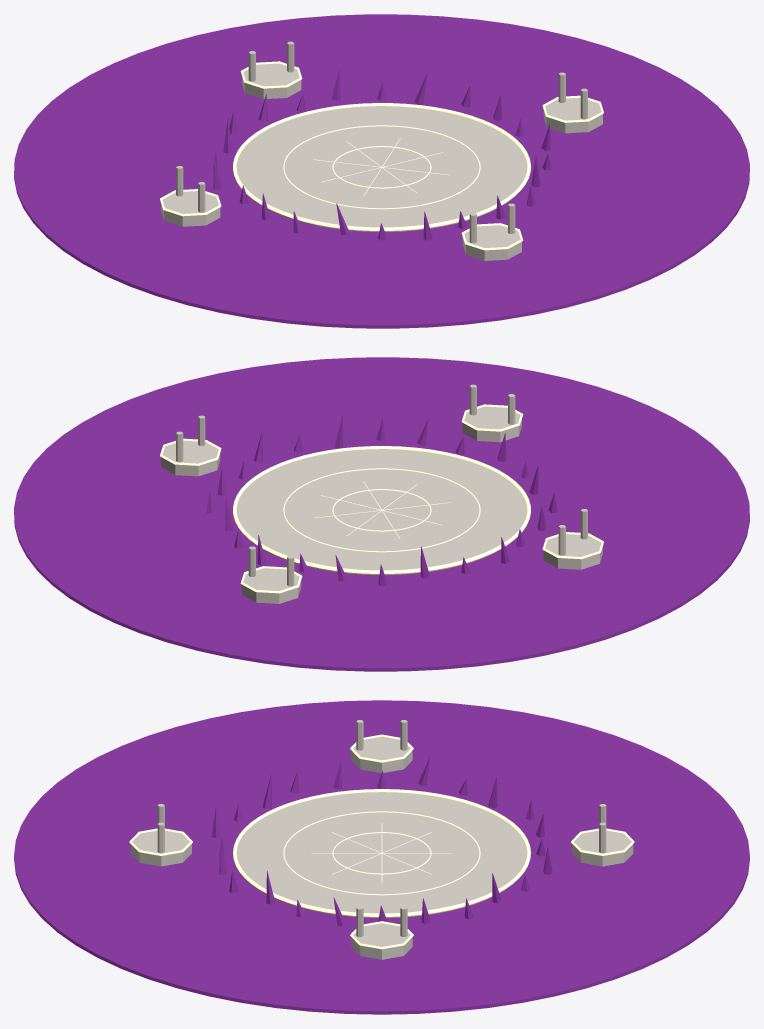
Rendered from SM_LW_Arena_LOD0.fbx.
3 views of the same model, one above another, from view 1: azimuth 30°, elevation 25°; view 2: azimuth 150°, elevation 25°; view 3: azimuth 270°, elevation 25° (orthographic).
Visible parts, largest first — view 1: SM_LW_CorruptionFloor, SM_LW_ArenaStone_Base, SM_LW_SacredCircle_Gold, SM_LW_TemplePedestal_East, SM_LW_TemplePedestal_West, SM_LW_TemplePedestal_South, SM_LW_TemplePedestal_North, SM_LW_InnerRing_8m; view 2: SM_LW_CorruptionFloor, SM_LW_ArenaStone_Base, SM_LW_SacredCircle_Gold, SM_LW_TemplePedestal_West, SM_LW_TemplePedestal_East, SM_LW_TemplePedestal_South, SM_LW_TemplePedestal_North, SM_LW_InnerRing_8m; view 3: SM_LW_CorruptionFloor, SM_LW_ArenaStone_Base, SM_LW_SacredCircle_Gold, SM_LW_TemplePedestal_South, SM_LW_TemplePedestal_North, SM_LW_TemplePedestal_East, SM_LW_TemplePedestal_West, SM_LW_InnerRing_8m.
Part boxes in pixels (bbox=[...]): SM_LW_CorruptionFloor: bbox=[14, 14, 749, 328]; SM_LW_ArenaStone_Base: bbox=[236, 106, 527, 231]; SM_LW_SacredCircle_Gold: bbox=[233, 103, 530, 230]; SM_LW_TemplePedestal_East: bbox=[242, 63, 301, 99]; SM_LW_TemplePedestal_West: bbox=[462, 225, 521, 260]; SM_LW_TemplePedestal_South: bbox=[161, 191, 220, 226]; SM_LW_TemplePedestal_North: bbox=[543, 97, 602, 133]; SM_LW_InnerRing_8m: bbox=[283, 125, 480, 209]; SM_LW_CorruptionFloor: bbox=[14, 357, 749, 671]; SM_LW_ArenaStone_Base: bbox=[236, 449, 527, 574]; SM_LW_SacredCircle_Gold: bbox=[233, 446, 530, 573]; SM_LW_TemplePedestal_West: bbox=[462, 406, 521, 442]; SM_LW_TemplePedestal_East: bbox=[242, 568, 301, 603]; SM_LW_TemplePedestal_South: bbox=[543, 534, 602, 569]; SM_LW_TemplePedestal_North: bbox=[161, 440, 220, 476]; SM_LW_InnerRing_8m: bbox=[283, 468, 480, 552]; SM_LW_CorruptionFloor: bbox=[14, 700, 749, 1014]; SM_LW_ArenaStone_Base: bbox=[236, 792, 527, 917]; SM_LW_SacredCircle_Gold: bbox=[233, 789, 530, 916]; SM_LW_TemplePedestal_South: bbox=[351, 736, 412, 772]; SM_LW_TemplePedestal_North: bbox=[351, 923, 412, 959]; SM_LW_TemplePedestal_East: bbox=[572, 830, 633, 866]; SM_LW_TemplePedestal_West: bbox=[130, 830, 191, 866]; SM_LW_InnerRing_8m: bbox=[283, 811, 480, 895].
Bounding box in the file's own units: 60 × 60 × 4.
